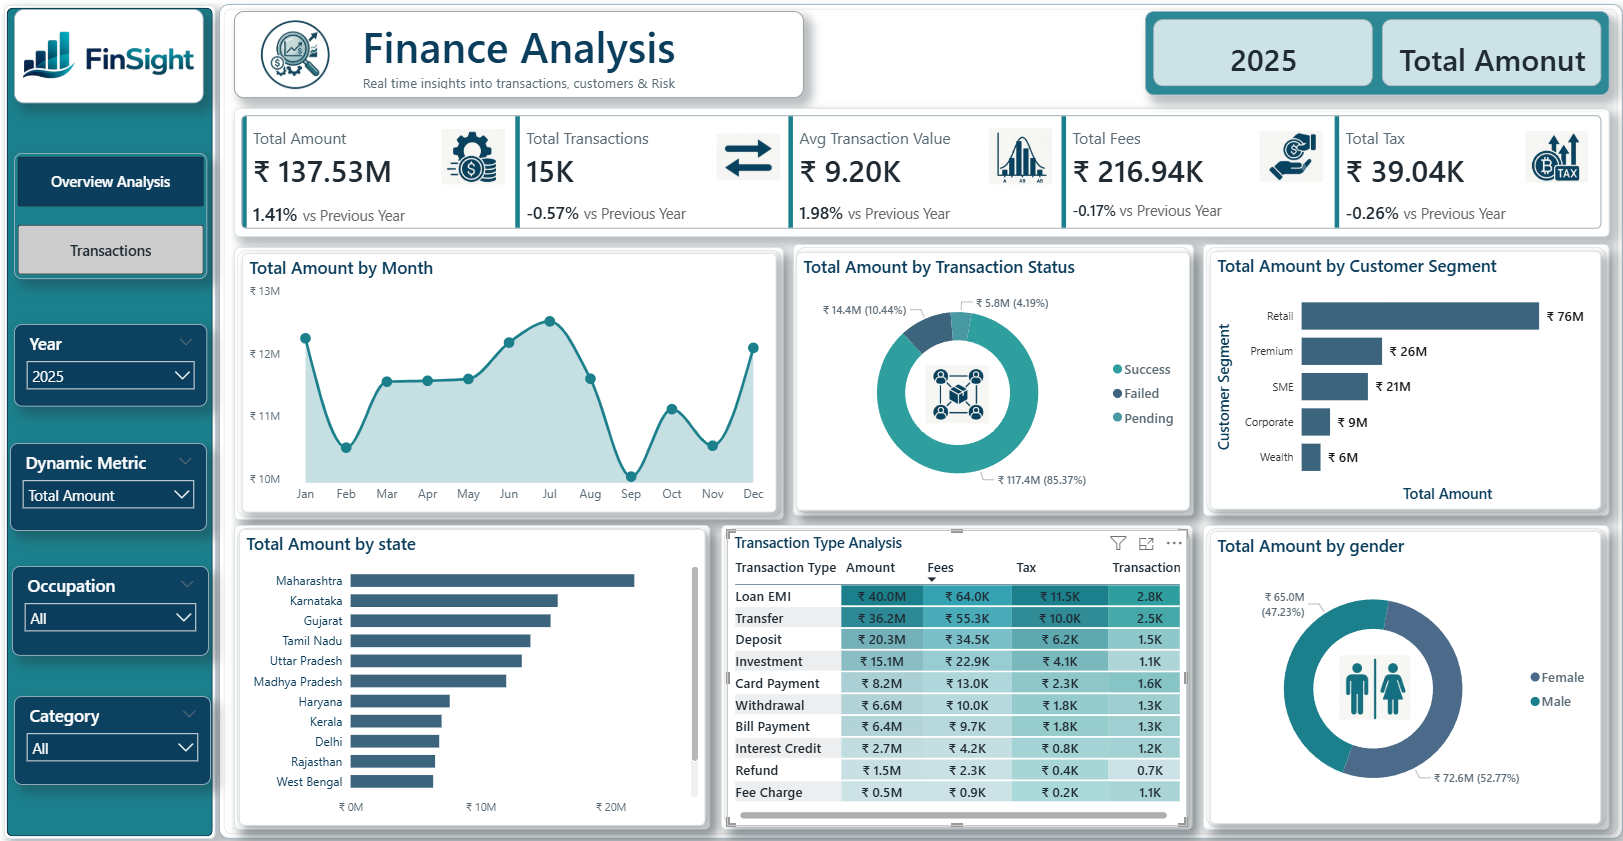

The page's visual inventory and layout, read from the dashboard file:
{"tool":"powerbi","page":{"name":"Overview Analysis","canvas":[1800,950],"ordinal":0},"visuals":[{"type":"shape","box":[9.7,18.2,232.9,919.4],"z":0},{"type":"shape","box":[247,18,1546.5,919.9],"z":1000},{"type":"card","fields":{"Values":["finance_transactions.Dashboard Title"]},"box":[263.7,25.5,628,95.5],"z":2000},{"type":"slicer","fields":{"Values":["Calendar Table.Year"]},"box":[20.6,369.9,213.5,91],"z":3000},{"type":"cardVisual","fields":{"Data":["finance_transactions.Total Amount","finance_transactions.Total Transactions","finance_transactions.Avg Transaction Value","finance_transactions.Total Fees","finance_transactions.Total Tax"]},"box":[263.2,132.2,1516.2,141.9],"z":4000},{"type":"slicer","fields":{"Values":["Dynamic Metric.Dynamic Metric"]},"box":[17,500.9,217.1,97],"z":5000},{"type":"shape","box":[263.2,285,606.5,300.8],"z":6000},{"type":"areaChart","fields":{"Y":["finance_transactions.Total Amount"],"Category":["Calendar Table.Month"]},"box":[271.7,292.3,589.5,286.3],"z":7000},{"type":"cardVisual","fields":{"Data":["finance_transactions.Selected Year","finance_transactions.Selected Dynamic Metric"]},"box":[1267.3,25.7,512.1,92.6],"z":8000},{"type":"shape","box":[879.4,282.6,441.5,299.6],"z":9000},{"type":"donutChart","fields":{"Y":["finance_transactions.Total Amount"],"Category":["finance_transactions.transaction_status"]},"box":[883,291.1,434.2,285],"z":10000},{"type":"shape","box":[1331.8,282.6,447.6,299.6],"z":11000},{"type":"barChart","fields":{"Y":["finance_transactions.Total Amount"],"Category":["customers.customer_segment"]},"box":[1339.1,289.9,430.6,285],"z":12000},{"type":"shape","box":[263.2,591.9,525.2,336],"z":13000},{"type":"barChart","fields":{"Y":["finance_transactions.Total Amount"],"Category":["customers.state"]},"box":[269.3,596.8,514.3,327.5],"z":14000},{"type":"shape","box":[800.3,591.9,519.8,335.8],"z":15000},{"type":"tableEx","title":"Transaction Type Analysis","fields":{"Values":["finance_transactions.transaction_type","finance_transactions.Total Amount","finance_transactions.Total Fees","finance_transactions.Total Tax","finance_transactions.Total Transactions"]},"box":[806.7,597,506.9,326.8],"z":16000},{"type":"shape","box":[1331.8,591.9,447.6,336],"z":17000},{"type":"donutChart","fields":{"Y":["finance_transactions.Total Amount"],"Category":["customers.gender"]},"box":[1339.1,598,430.6,322.6],"z":18000},{"type":"slicer","fields":{"Values":["customers.occupation"]},"box":[18.2,636.8,217.1,99.5],"z":19000},{"type":"slicer","fields":{"Values":["finance_transactions.merchant_category"]},"box":[20.6,779.9,217.1,98.2],"z":20000},{"type":"pageNavigator","box":[20.6,181.9,213.5,139.5],"z":21000},{"type":"image","box":[20.6,23,208.6,104.3],"z":22000},{"type":"image","box":[486.6,145.2,80.3,80.3],"z":23000},{"type":"image","box":[1090.4,145.2,80.3,80.3],"z":24000},{"type":"image","box":[789.8,145.2,80.3,80.3],"z":25000},{"type":"image","box":[1388.5,145.2,80.3,80.3],"z":26000},{"type":"image","box":[1681.5,146.5,79,79],"z":27000},{"type":"image","box":[1020.4,406.4,80.3,81.5],"z":28000},{"type":"image","box":[1476.4,727.4,87.9,87.9],"z":29000},{"type":"image","box":[271.3,28,112.1,90.4],"z":30000}]}

Visuals, with their boxes on the page's 1800x950 design canvas (x1, y1, x2, y2). These are canvas units, not pixel positions in the 1623x841 screenshot, which may show the page scaled, cropped or inside an application window:
shape: detection(10, 18, 243, 938)
shape: detection(247, 18, 1794, 938)
card - finance_transactions.Dashboard Title: detection(264, 26, 892, 121)
slicer - Calendar Table.Year: detection(21, 370, 234, 461)
cardVisual - finance_transactions.Total Amount x finance_transactions.Total Transactions: detection(263, 132, 1779, 274)
slicer - Dynamic Metric.Dynamic Metric: detection(17, 501, 234, 598)
shape: detection(263, 285, 870, 586)
areaChart - finance_transactions.Total Amount x Calendar Table.Month: detection(272, 292, 861, 579)
cardVisual - finance_transactions.Selected Year x finance_transactions.Selected Dynamic Metric: detection(1267, 26, 1779, 118)
shape: detection(879, 283, 1321, 582)
donutChart - finance_transactions.Total Amount x finance_transactions.transaction_status: detection(883, 291, 1317, 576)
shape: detection(1332, 283, 1779, 582)
barChart - finance_transactions.Total Amount x customers.customer_segment: detection(1339, 290, 1770, 575)
shape: detection(263, 592, 788, 928)
barChart - finance_transactions.Total Amount x customers.state: detection(269, 597, 784, 924)
shape: detection(800, 592, 1320, 928)
"Transaction Type Analysis" tableEx: detection(807, 597, 1314, 924)
shape: detection(1332, 592, 1779, 928)
donutChart - finance_transactions.Total Amount x customers.gender: detection(1339, 598, 1770, 921)
slicer - customers.occupation: detection(18, 637, 235, 736)
slicer - finance_transactions.merchant_category: detection(21, 780, 238, 878)
pageNavigator: detection(21, 182, 234, 321)
image: detection(21, 23, 229, 127)
image: detection(487, 145, 567, 226)
image: detection(1090, 145, 1171, 226)
image: detection(790, 145, 870, 226)
image: detection(1388, 145, 1469, 226)
image: detection(1682, 146, 1760, 226)
image: detection(1020, 406, 1101, 488)
image: detection(1476, 727, 1564, 815)
image: detection(271, 28, 383, 118)
